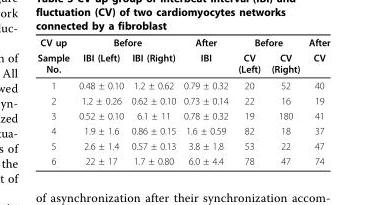table: (36, 36, 329, 166)
table column: (73, 36, 126, 166), (126, 36, 179, 166), (179, 36, 232, 166), (265, 36, 303, 166), (36, 36, 73, 166), (232, 36, 265, 166), (303, 36, 329, 166)
table column header: (36, 36, 329, 76)
table row: (36, 49, 329, 76), (36, 76, 329, 92), (36, 122, 329, 138), (36, 92, 329, 107), (36, 107, 329, 122), (36, 138, 329, 153), (36, 36, 329, 49), (36, 153, 329, 166)
table spanning cell: (179, 36, 232, 76), (36, 36, 73, 76), (73, 36, 179, 49), (303, 36, 329, 76), (232, 36, 303, 49)
